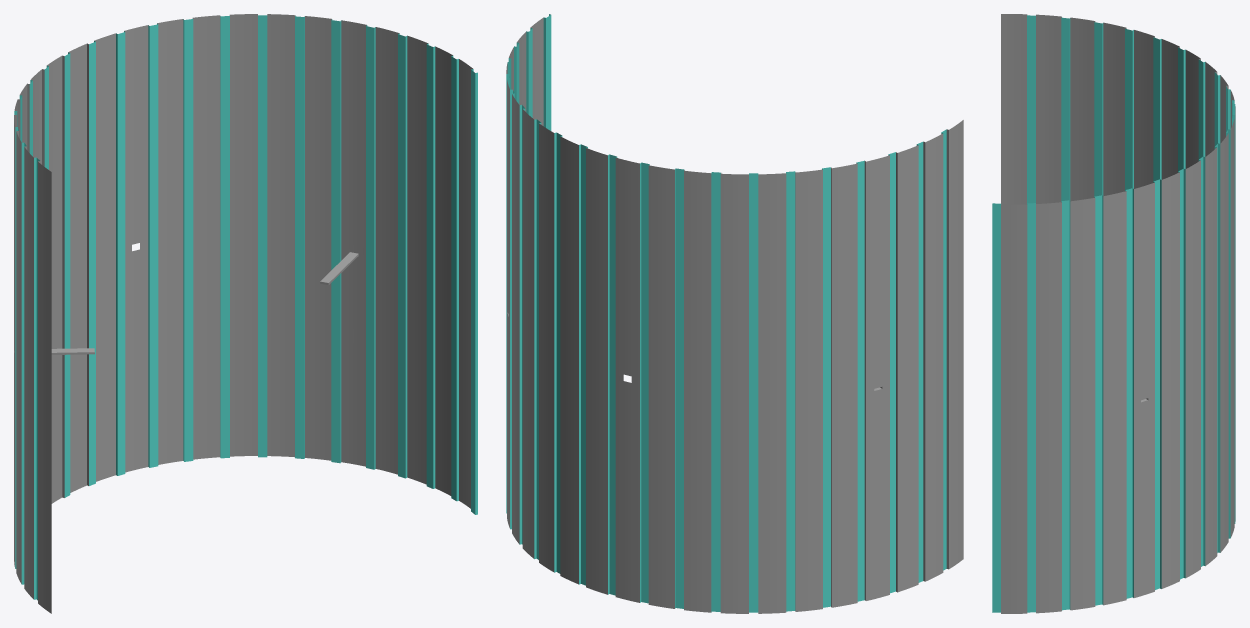
Rendered from HallwayTransistionWall1.fbx.
3 renders of one model, left to right at view 1: azimuth 30°, elevation 25°; view 2: azimuth 150°, elevation 25°; view 3: azimuth 270°, elevation 25°, orthographic. The views are drawn at different scales.
Parts seen in each view (by area): view 1: pCylinder3; view 2: pCylinder3; view 3: pCylinder3.
Part boxes in pixels (x1,y1,x2,y2): pCylinder3: [14, 14, 477, 613]; pCylinder3: [506, 14, 963, 613]; pCylinder3: [992, 14, 1235, 613].
Size of the model in its own units: 70121 by 70121 by 37771.
